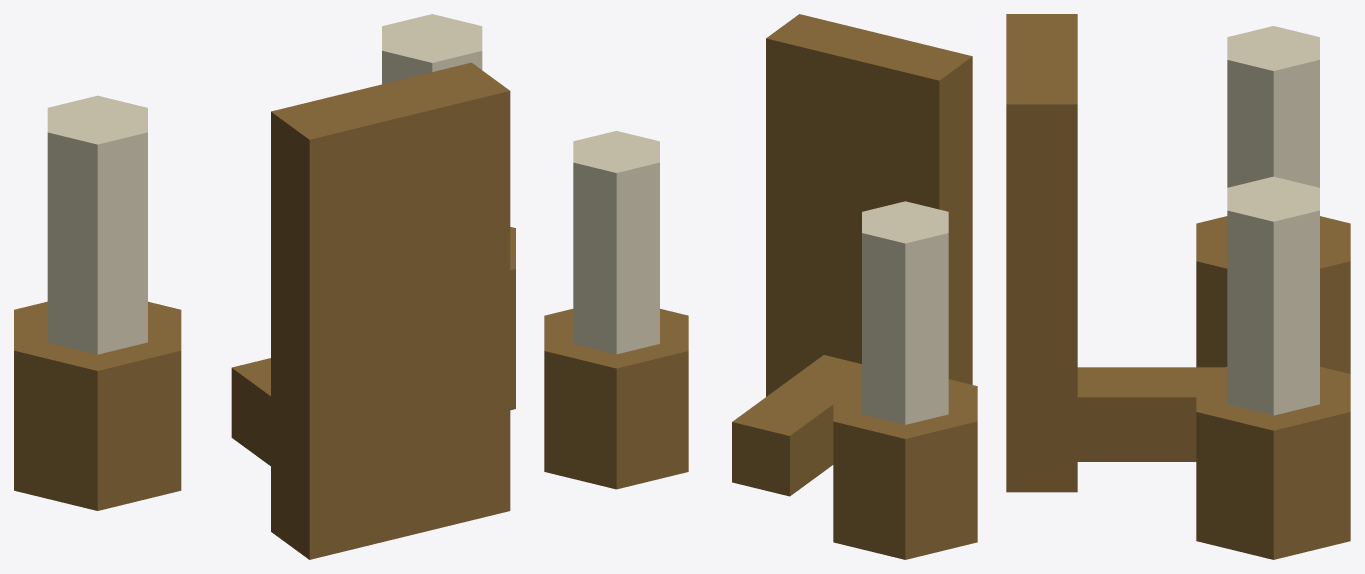
File: wall_sconce.obj
3 renders of one model, left to right at view 1: azimuth 30°, elevation 25°; view 2: azimuth 150°, elevation 25°; view 3: azimuth 270°, elevation 25°, orthographic. The views are drawn at different scales.
Parts seen in each view (by area): view 1: wall_sconce; view 2: wall_sconce; view 3: wall_sconce.
Boxes of the visible parts, box(x1,y1,x2,y2) form: wall_sconce: box(14, 14, 515, 559); wall_sconce: box(544, 14, 977, 559); wall_sconce: box(1006, 14, 1350, 559).
Size of the model in its own units: 0.3 by 0.24 by 0.1933.
